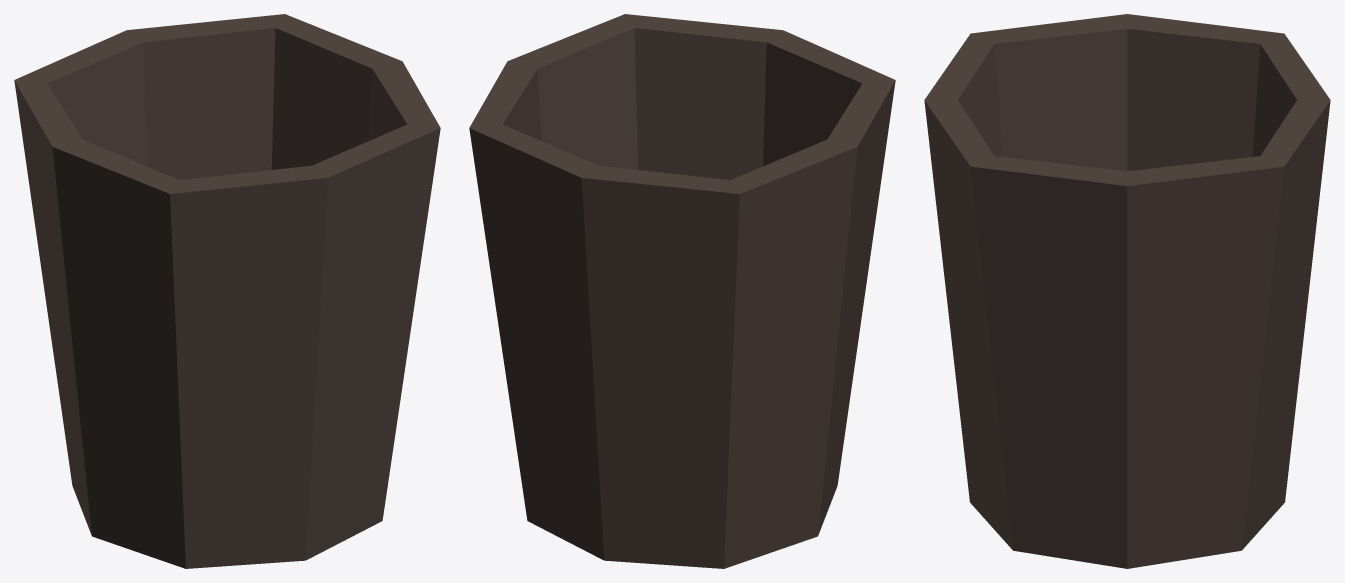
File: cup.fbx
3 views of the same model, side by side, from view 1: azimuth 30°, elevation 25°; view 2: azimuth 150°, elevation 25°; view 3: azimuth 270°, elevation 25° (orthographic).
Parts seen in each view (by area): view 1: cup; view 2: cup; view 3: cup.
Boxes of the visible parts, box(x1,y1,x2,y2) form: cup: box(14, 14, 440, 568); cup: box(469, 14, 895, 568); cup: box(924, 14, 1330, 568).
Bounding box in the file's own units: 7.83 × 8.53 × 7.81.
1 material, 1 textured.
